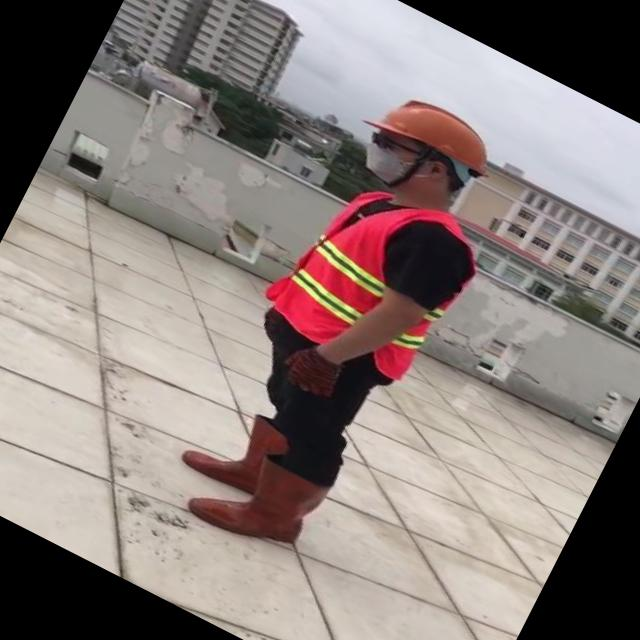hard_hat: (362, 76, 508, 186)
safety_vest: (262, 163, 486, 391)
vehicle: (144, 58, 546, 584)
work_boots: (187, 436, 331, 566), (182, 394, 294, 502)
